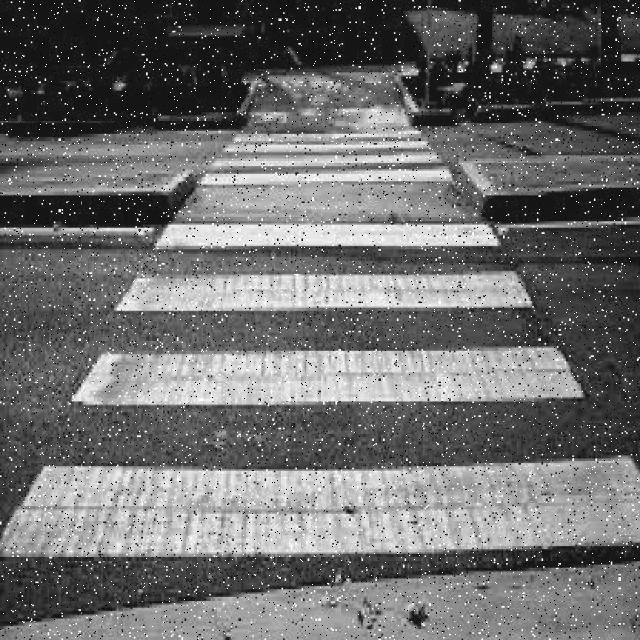crosswalk: (0, 222, 640, 556), (203, 129, 456, 184)
